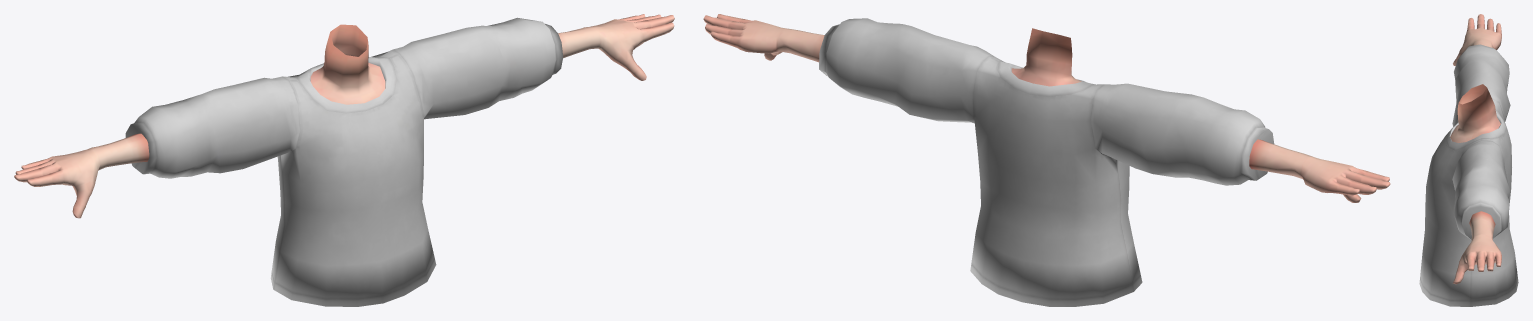
The model's file is tr0750_00_upb00.gltf.
3 renders of one model, left to right at view 1: azimuth 30°, elevation 25°; view 2: azimuth 150°, elevation 25°; view 3: azimuth 270°, elevation 25°, orthographic. The views are drawn at different scales.
Parts seen in each view (by area): view 1: upb00_cloth_mesh_shape:upperbody00, upb00_skin_mesh_shape:upperbody00_skin; view 2: upb00_cloth_mesh_shape:upperbody00, upb00_skin_mesh_shape:upperbody00_skin; view 3: upb00_cloth_mesh_shape:upperbody00, upb00_skin_mesh_shape:upperbody00_skin.
Boxes of the visible parts, box(x1,y1,x2,y2) form: upb00_cloth_mesh_shape:upperbody00: box(125, 17, 563, 306); upb00_skin_mesh_shape:upperbody00_skin: box(14, 14, 674, 218); upb00_cloth_mesh_shape:upperbody00: box(819, 18, 1274, 306); upb00_skin_mesh_shape:upperbody00_skin: box(703, 14, 1390, 202); upb00_cloth_mesh_shape:upperbody00: box(1419, 44, 1518, 306); upb00_skin_mesh_shape:upperbody00_skin: box(1450, 14, 1501, 284).
Size of what is drawn, in the model's own units: 1.63 by 0.5862 by 0.2679.
2 materials, 2 textured.
